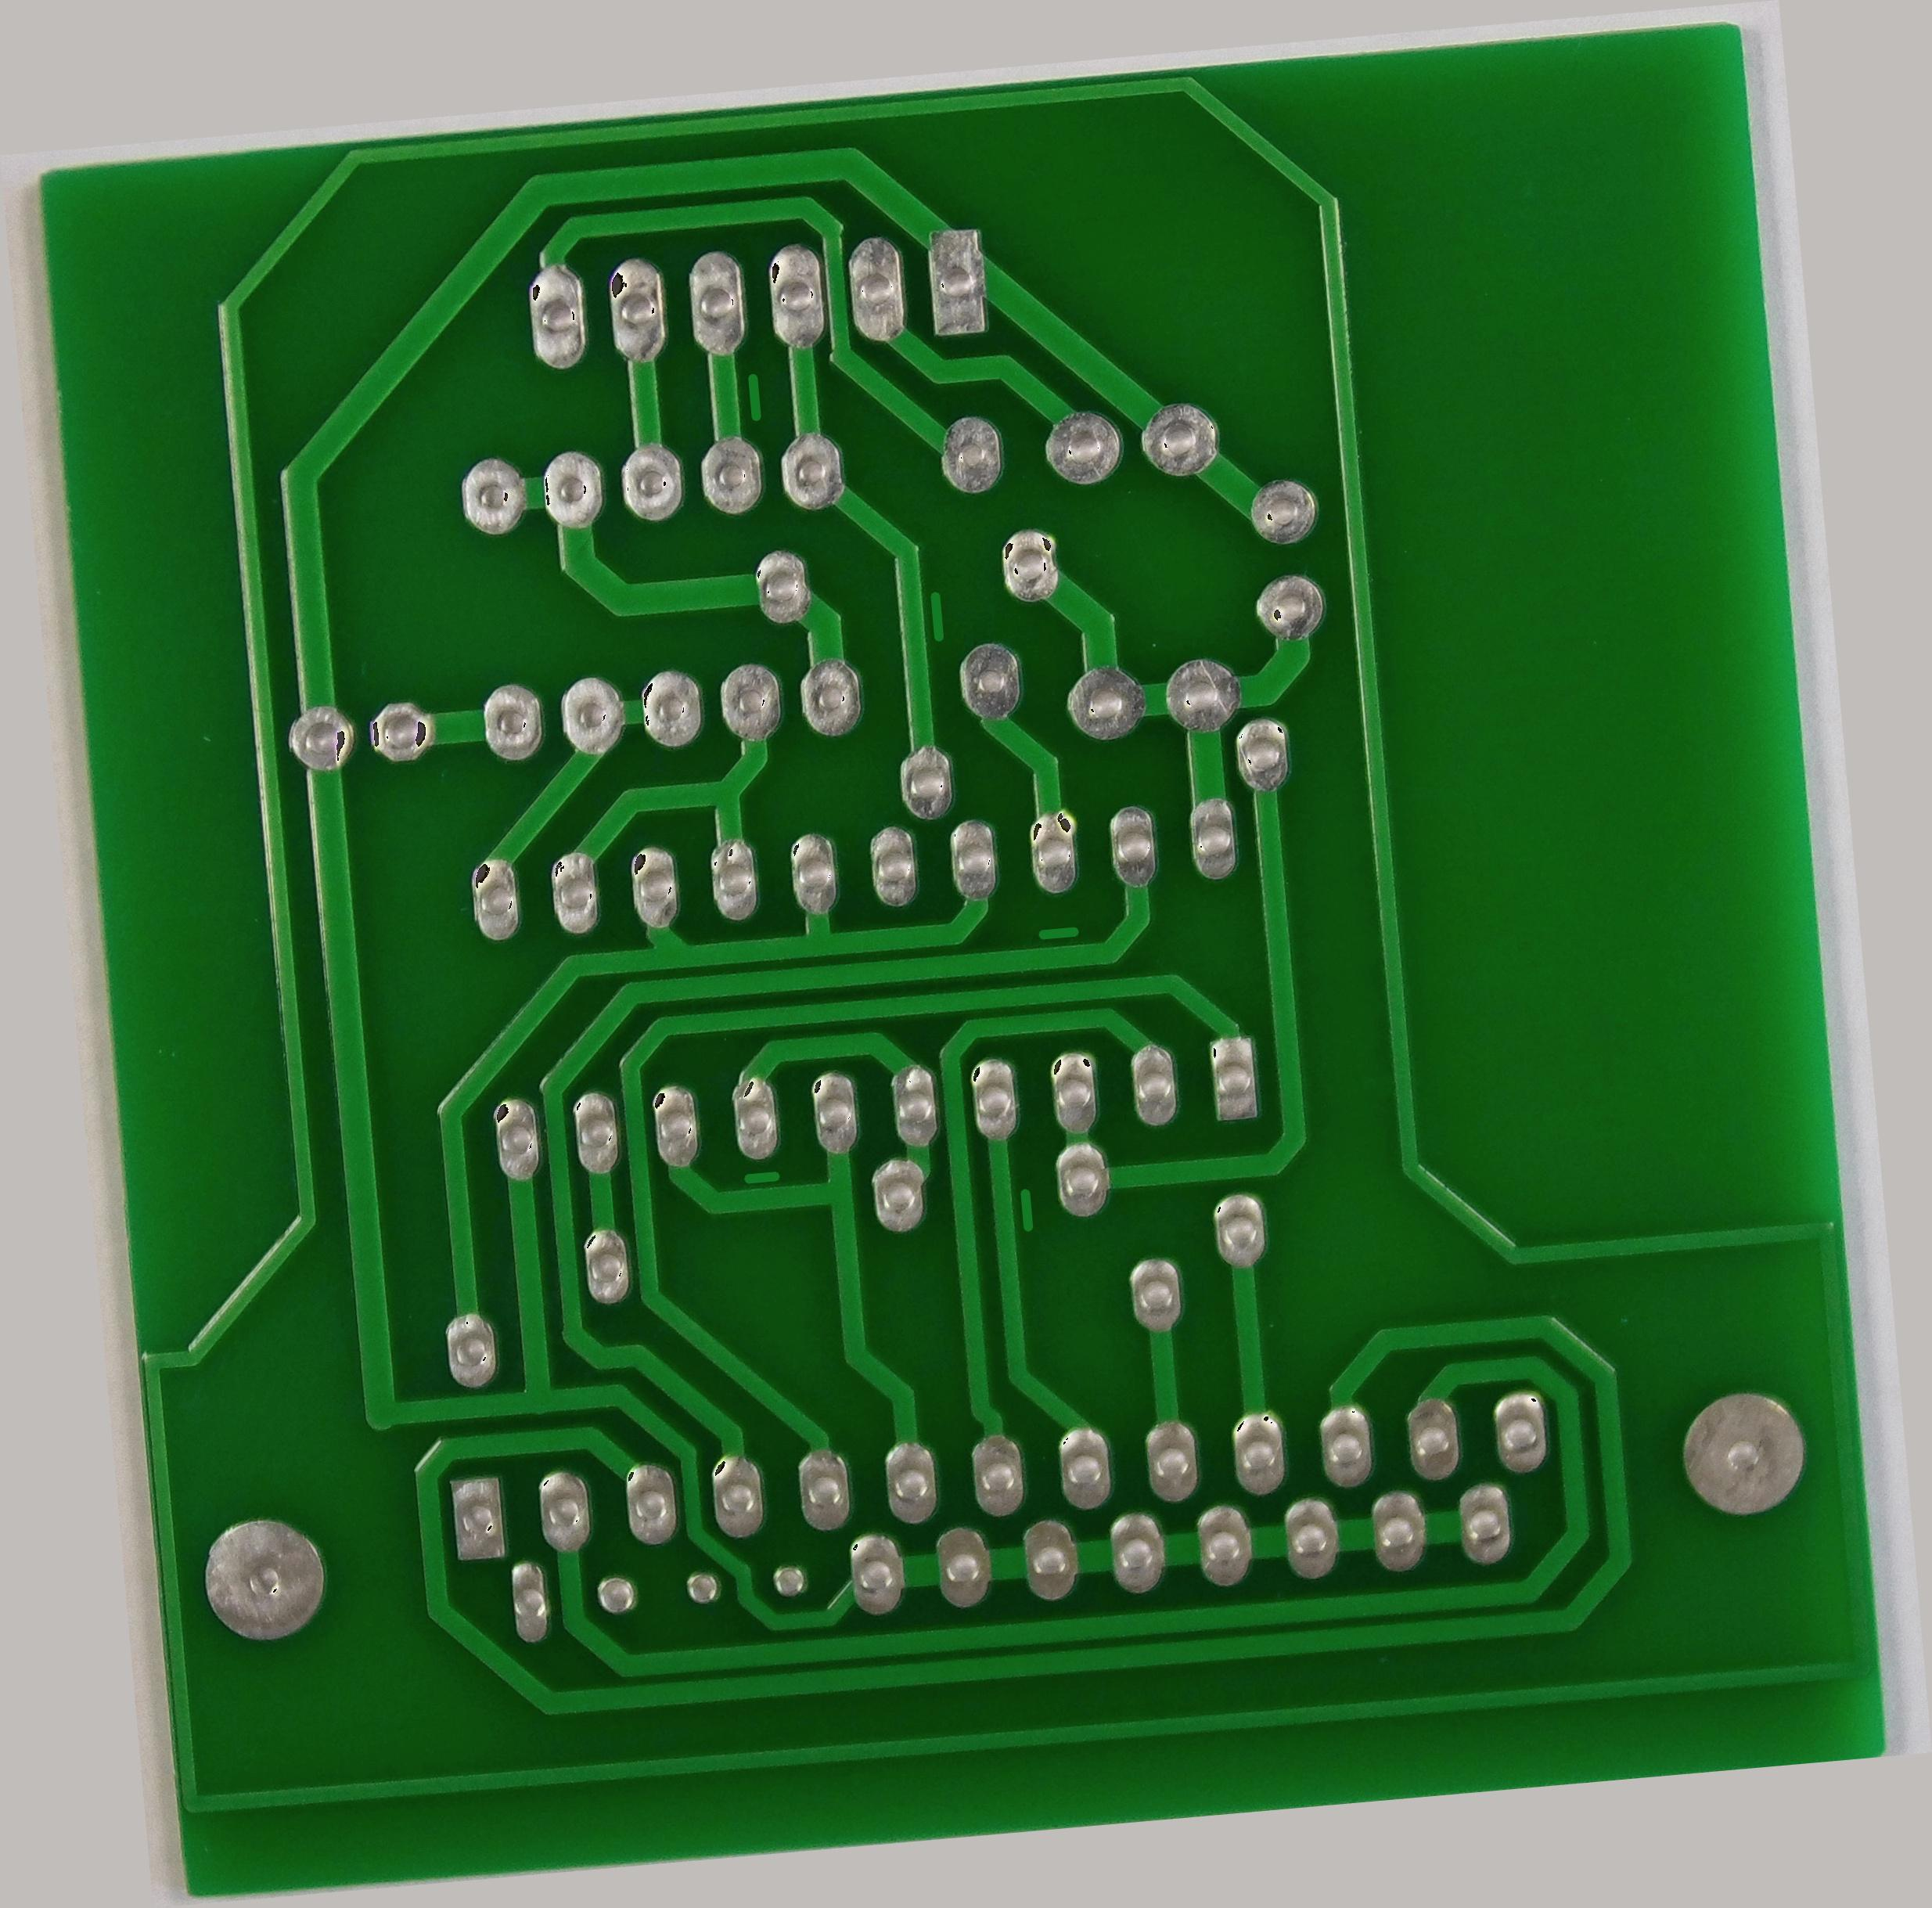spurious_copper: (728, 362, 776, 432), (914, 577, 956, 655), (1025, 916, 1087, 954), (1008, 1181, 1041, 1239), (737, 1157, 783, 1199)
